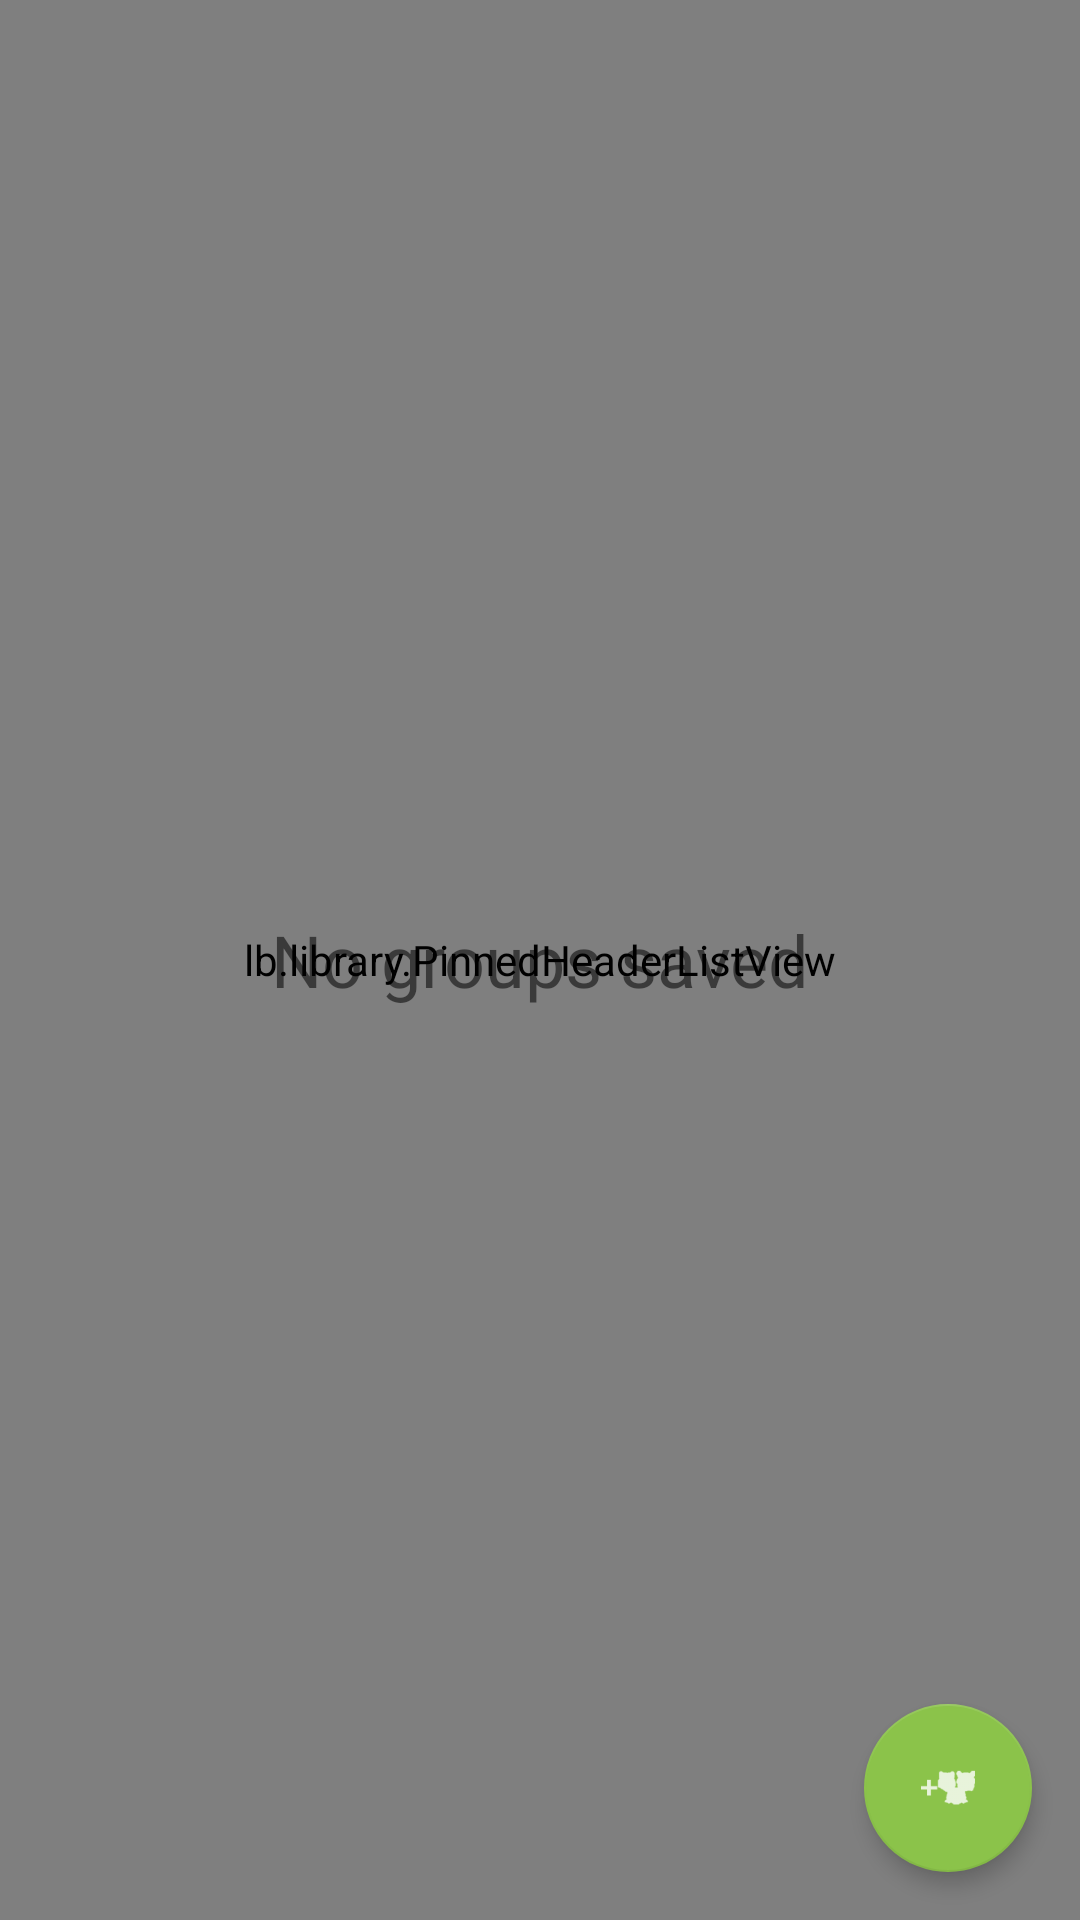

Locate icon controls on the screen. Image size 1080px x 1920px, boxes as (x1, y1, x2, y2).
add group: (864, 1704, 1032, 1872)
